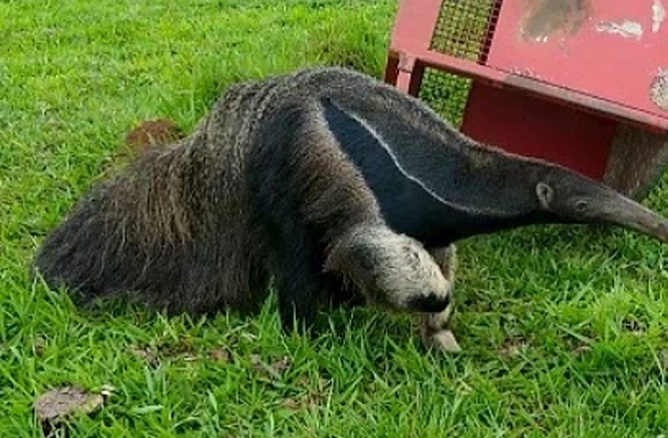TamanduaBandeira: (29, 63, 658, 350)
